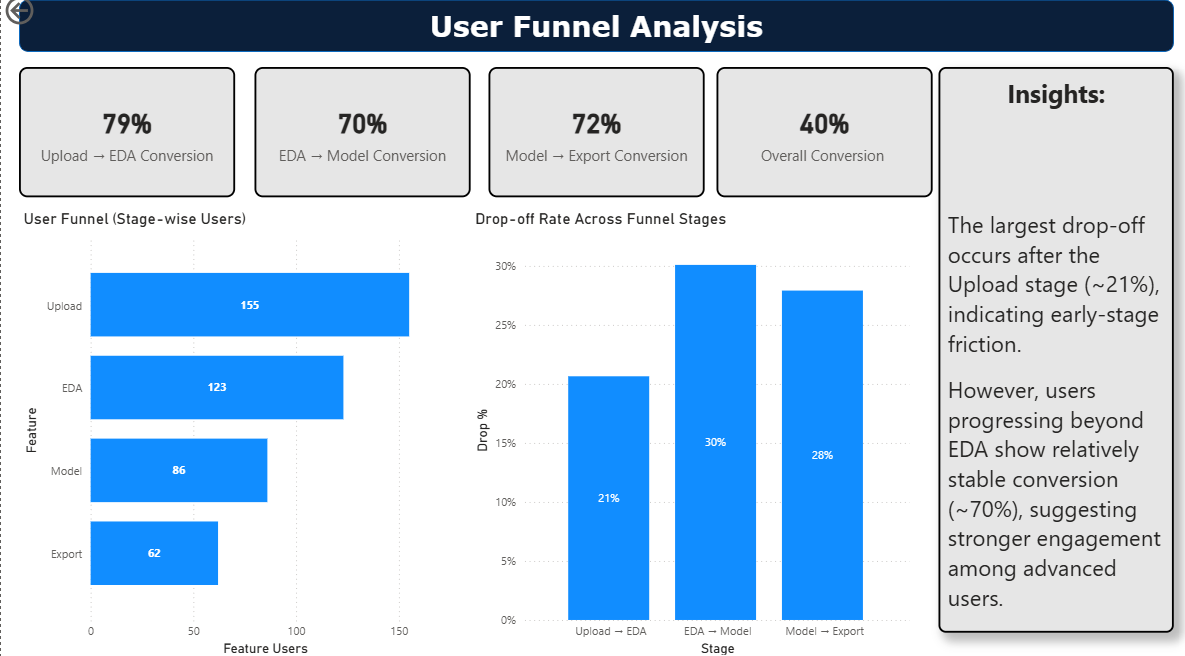

What the dashboard file says about the page in this screenshot:
{"tool":"powerbi","page":{"name":"User Funnel Analysis","canvas":[1280,720],"ordinal":1},"visuals":[{"type":"clusteredBarChart","title":"User Funnel (Stage-wise Users)","fields":{"Category":["Feature Table.Feature"],"Y":["Feature Table.Feature Users"]},"box":[19.4,234.8,469.6,485.8],"z":0},{"type":"shape","box":[19.4,8.1,1246.8,56.7],"z":1000},{"type":"card","fields":{"Values":["formula.Upload to EDA %"]},"box":[19.4,81,233.2,140.9],"z":2000},{"type":"textbox","box":[1012,81,254.2,610.4],"z":3000},{"type":"card","fields":{"Values":["formula.EDA to Model %"]},"box":[273.6,81,233.2,140.9],"z":4000},{"type":"card","fields":{"Values":["formula.Model to Export %"]},"box":[526.2,81,233.2,140.9],"z":5000},{"type":"card","fields":{"Values":["formula.Overall Conversion %"]},"box":[772.4,81,233.2,140.9],"z":6000},{"type":"actionButton","box":[0,0,100,40],"z":7000},{"type":"clusteredColumnChart","title":"Drop-off Rate Across Funnel Stages","fields":{"Category":["Drop Stage.Stage"],"Y":["Drop Stage.Drop %"]},"box":[506.8,234.8,479.3,485.8],"z":8000}]}

Visuals, with their boxes in screenshot pixels (x1, y1, x2, y2), scaled from the page's 1280x720 canvas onto the 1185x656 screenshot:
"User Funnel (Stage-wise Users)" clusteredBarChart: rect(18, 214, 453, 655)
shape: rect(18, 7, 1172, 59)
card - formula.Upload to EDA %: rect(18, 74, 234, 202)
textbox: rect(937, 74, 1172, 630)
card - formula.EDA to Model %: rect(253, 74, 469, 202)
card - formula.Model to Export %: rect(487, 74, 703, 202)
card - formula.Overall Conversion %: rect(715, 74, 931, 202)
actionButton: rect(0, 0, 93, 36)
"Drop-off Rate Across Funnel Stages" clusteredColumnChart: rect(469, 214, 913, 655)
